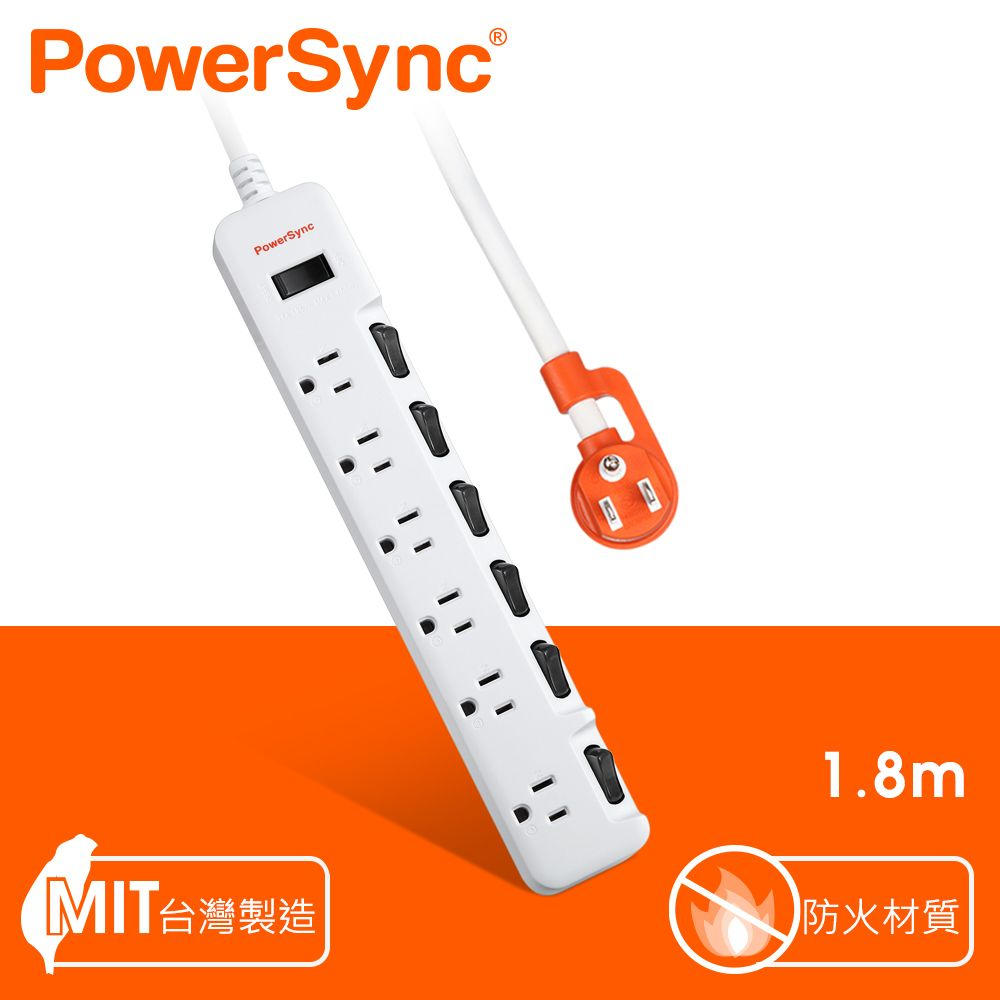socket: (210, 155, 650, 898)
